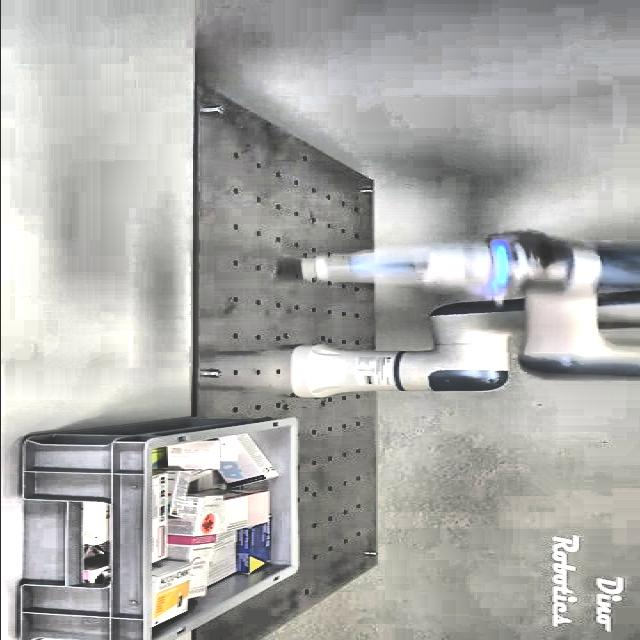robot: (278, 229, 640, 398)
